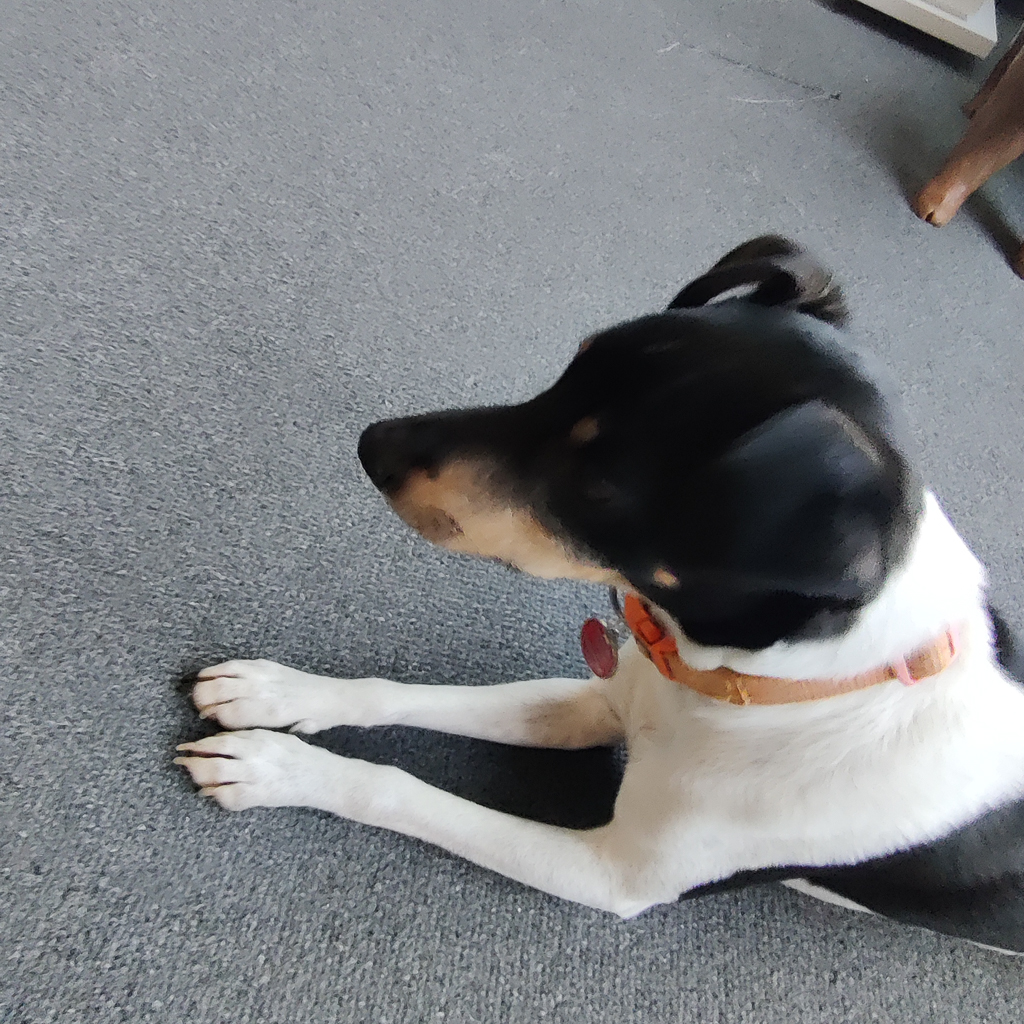Cattle: (875, 5, 1024, 286)
Dog: (146, 219, 1024, 963)
